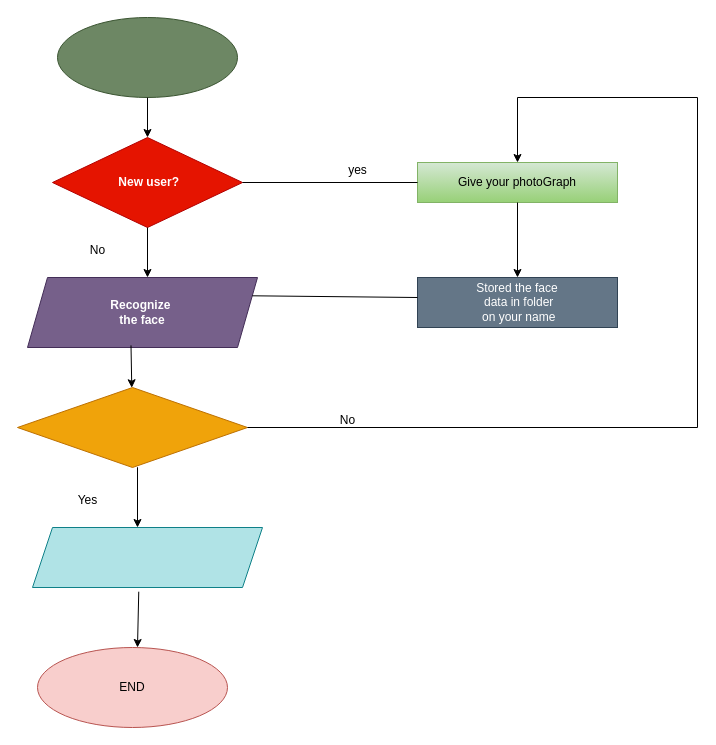
Image size: 716x745. Some labels were removed from this diagram. The shapes that lost their labels are listed below. From the top down, each one's box as (x1, y1, x2, y2) in pixels, then its label:
(56, 16, 238, 98): START
(16, 386, 248, 468): Face Recognized
(32, 526, 262, 588): Stored in CSV file with registration number and & date .Time to Entry
